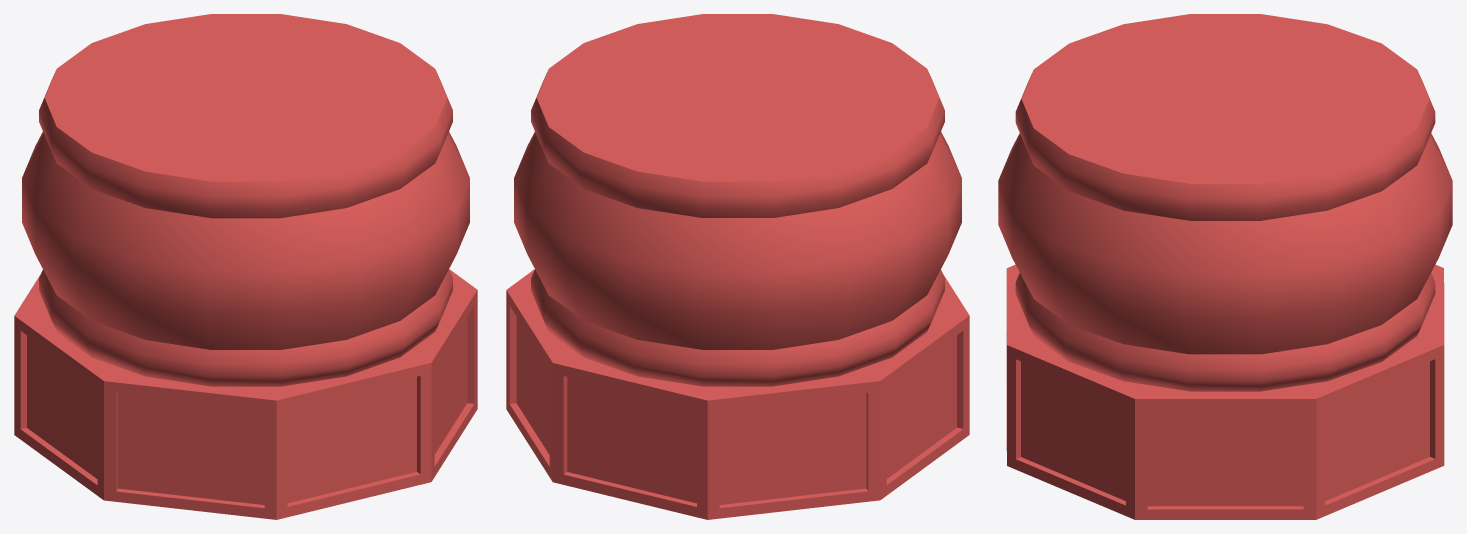
Rendered from ImperialPillarEnd_B.fbx.
3 views of the same model, side by side, from view 1: azimuth 30°, elevation 25°; view 2: azimuth 150°, elevation 25°; view 3: azimuth 270°, elevation 25° (orthographic).
Parts seen in each view (by area): view 1: ImperialPillarEnd_B; view 2: ImperialPillarEnd_B; view 3: ImperialPillarEnd_B.
Boxes of the visible parts, x1=… form: ImperialPillarEnd_B: x1=14, y1=14, x2=477, y2=519; ImperialPillarEnd_B: x1=506, y1=14, x2=969, y2=519; ImperialPillarEnd_B: x1=998, y1=14, x2=1452, y2=519.
Bounding box in the file's own units: 123 × 100 × 125.
